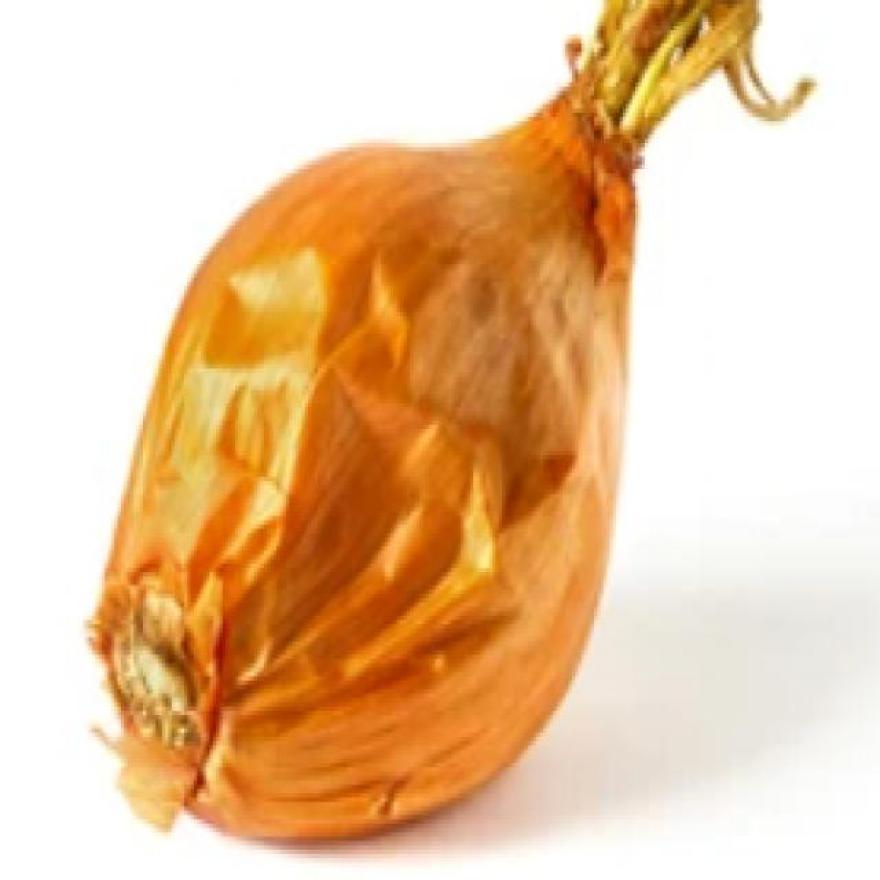Sprouted: (530, 21, 724, 200)
